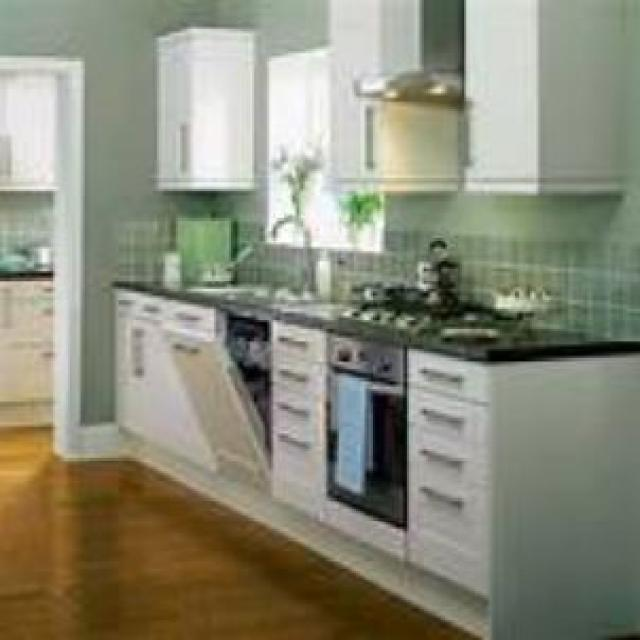dishwasher: (159, 305, 269, 491)
